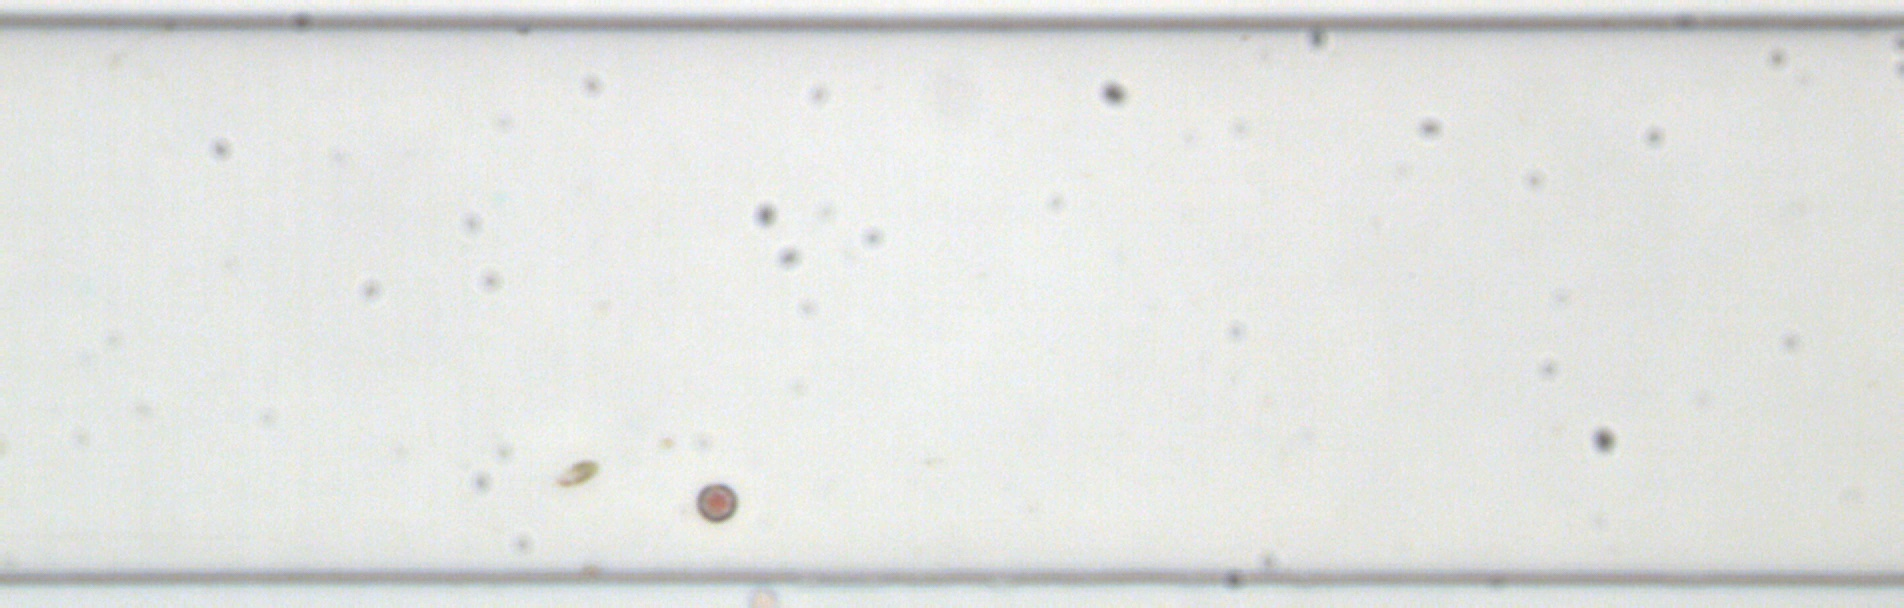Dunaliella salina: (552, 454, 601, 491)
Porphyridium: (695, 481, 739, 524)
